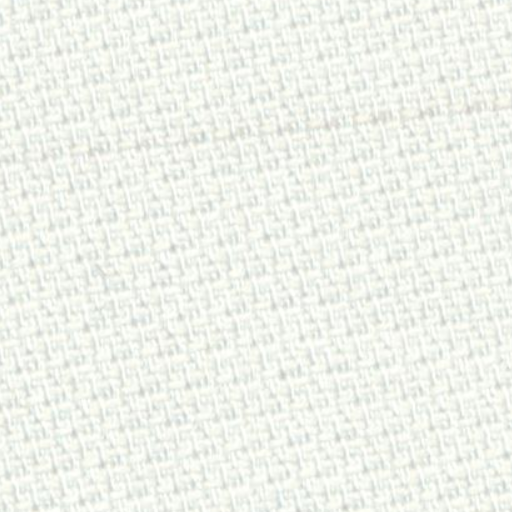WuZi: (142, 88, 502, 149)
